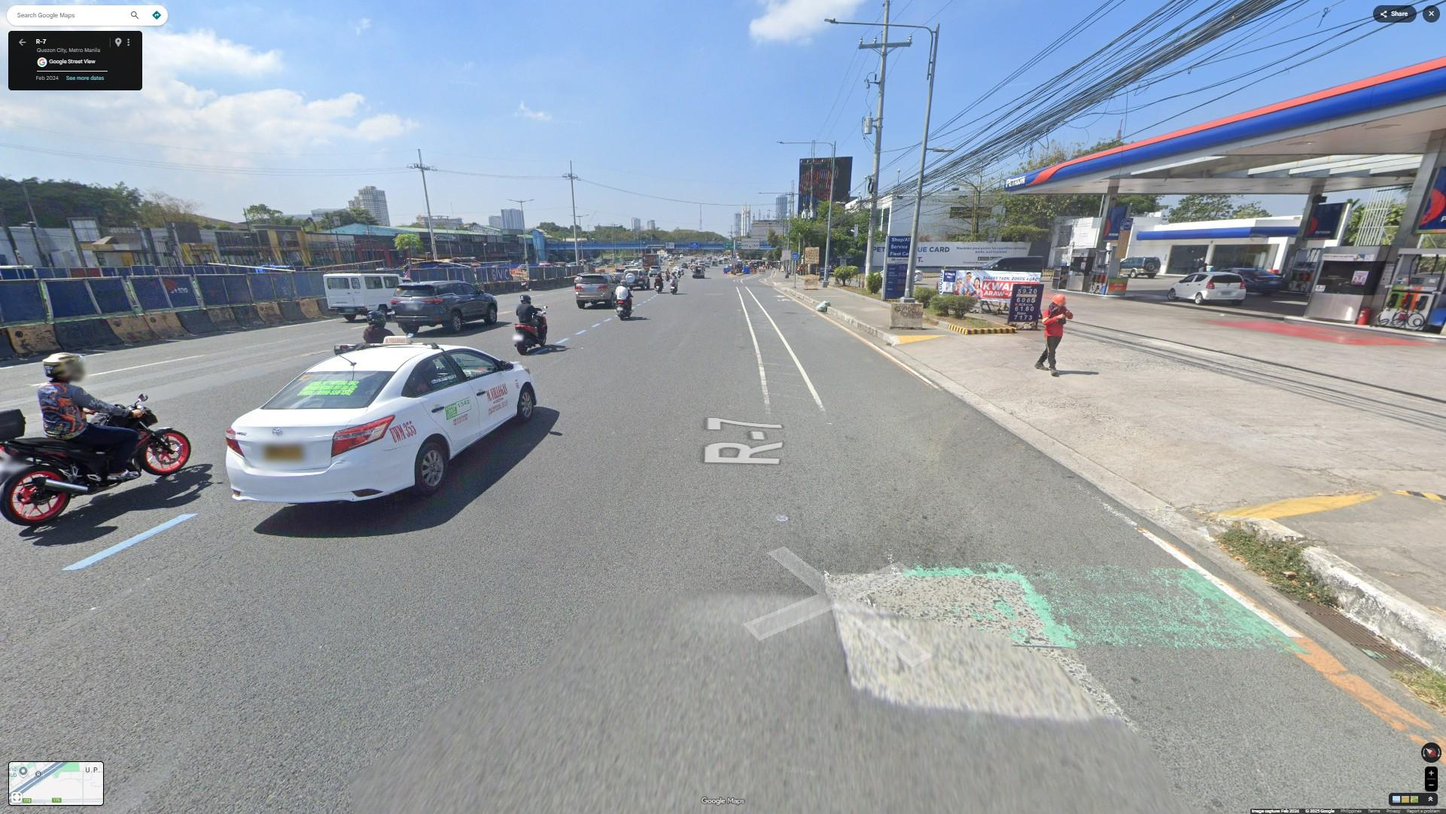pedestrian: (1034, 292, 1073, 377), (1197, 262, 1208, 288)
